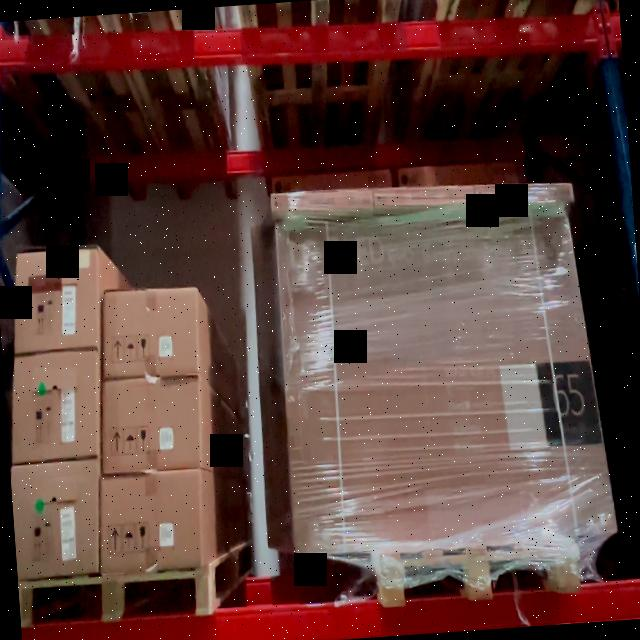box: (278, 211, 591, 552), (105, 478, 202, 565), (15, 356, 96, 460), (104, 383, 197, 470), (104, 293, 196, 377), (17, 256, 93, 349), (272, 186, 374, 218), (372, 184, 474, 210), (473, 182, 573, 204)
